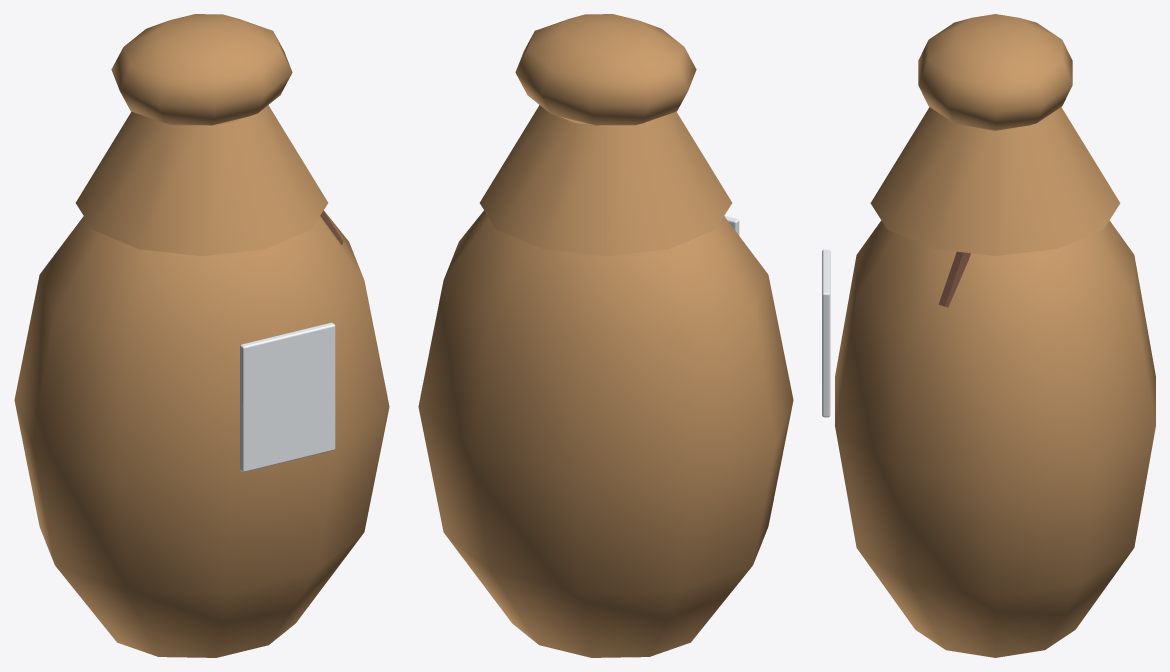
Rendered from alpine-snow-village-tied-winter-provisions-sack-5b2e6a08__19844.glb.
The picture shows the model from 3 angles, left to right: view 1: azimuth 30°, elevation 25°; view 2: azimuth 150°, elevation 25°; view 3: azimuth 270°, elevation 25°; orthographic projection.
Parts seen in each view (by area): view 1: tied-winter-provisions-sack-oak, tied-winter-provisions-sack-snow; view 2: tied-winter-provisions-sack-oak; view 3: tied-winter-provisions-sack-oak, tied-winter-provisions-sack-snow, tied-winter-provisions-sack-wood.
Boxes of the visible parts, bbox=[...] form: tied-winter-provisions-sack-oak: bbox=[14, 14, 389, 657]; tied-winter-provisions-sack-snow: bbox=[240, 322, 335, 471]; tied-winter-provisions-sack-oak: bbox=[418, 14, 793, 657]; tied-winter-provisions-sack-oak: bbox=[835, 14, 1155, 657]; tied-winter-provisions-sack-snow: bbox=[822, 249, 830, 417]; tied-winter-provisions-sack-wood: bbox=[938, 251, 970, 307].
Bounding box in the file's own units: 0.62 × 1.1 × 0.5343.
